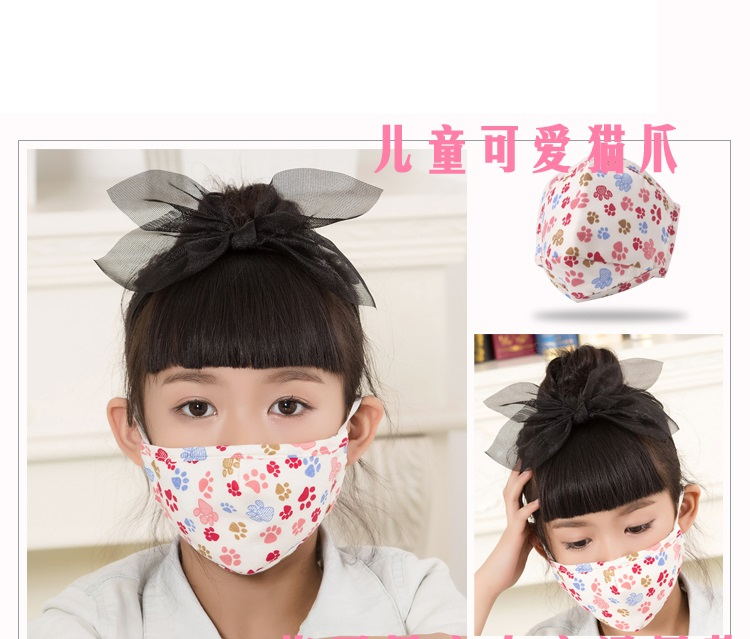face_mask: (141, 325, 345, 577), (542, 472, 675, 631)
